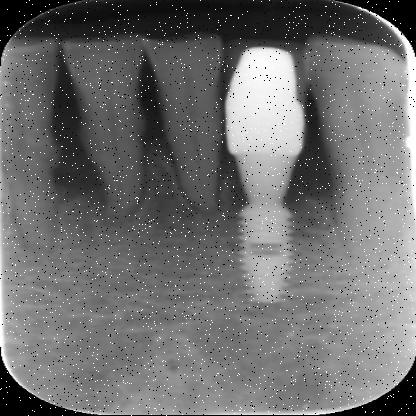Bicon: (235, 211, 295, 306)
